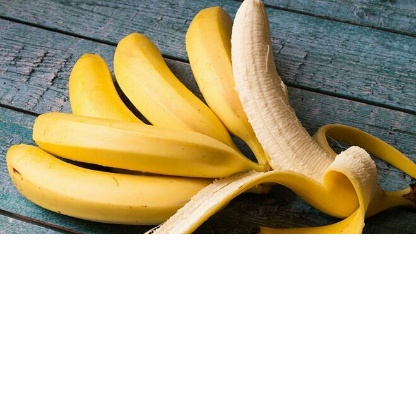chuoi: (7, 22, 267, 225), (226, 4, 398, 217)
